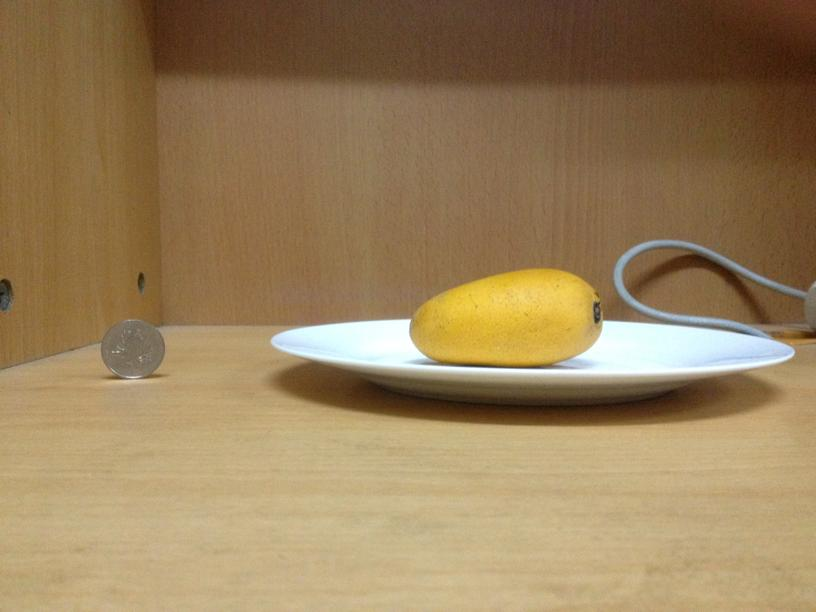coin: (100, 317, 164, 378)
mango: (409, 265, 601, 365)
